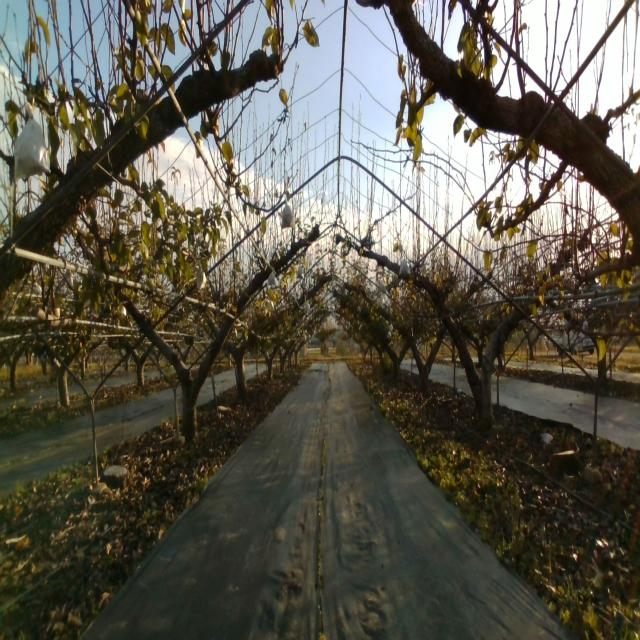pearbags: (14, 101, 51, 181), (282, 199, 296, 230), (399, 254, 411, 276), (196, 268, 207, 291)
